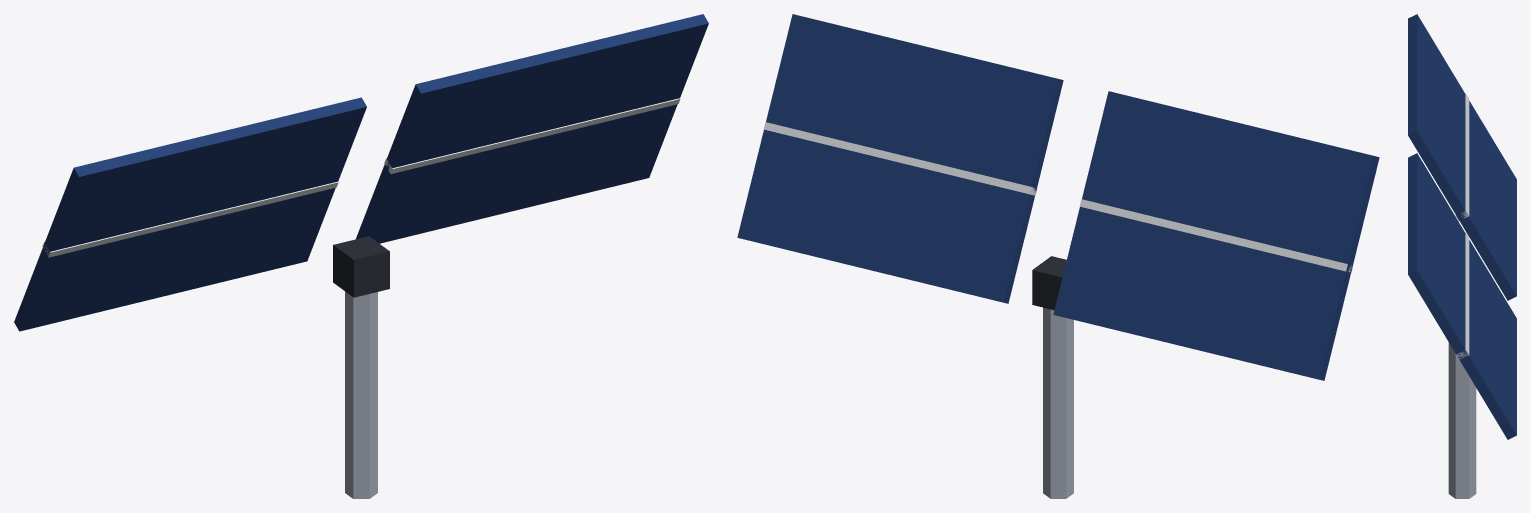
Rendered from lunar-solar-panel-array.glb.
3 renders of one model, left to right at view 1: azimuth 30°, elevation 25°; view 2: azimuth 150°, elevation 25°; view 3: azimuth 270°, elevation 25°, orthographic. The views are drawn at different scales.
Parts seen in each view (by area): view 1: solar_panel_array; view 2: solar_panel_array; view 3: solar_panel_array.
Boxes of the visible parts, bbox=[...] form: solar_panel_array: bbox=[14, 14, 708, 498]; solar_panel_array: bbox=[737, 14, 1379, 498]; solar_panel_array: bbox=[1408, 14, 1516, 498].
Size of the model in its own units: 3.5 by 2.24 by 0.628.
